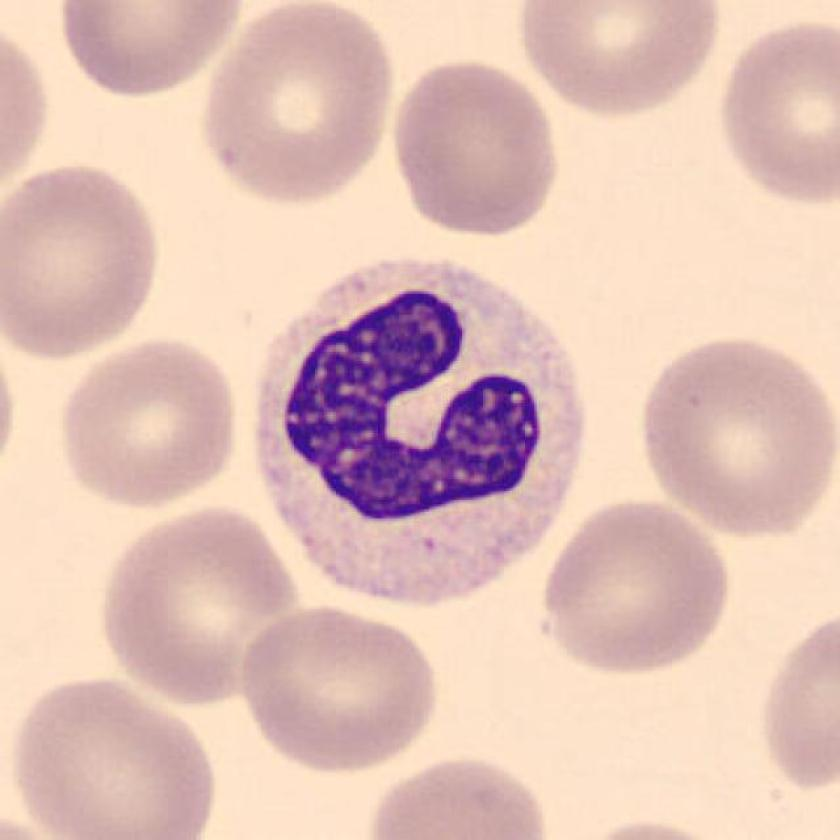neutrophil: (254, 257, 581, 602)
